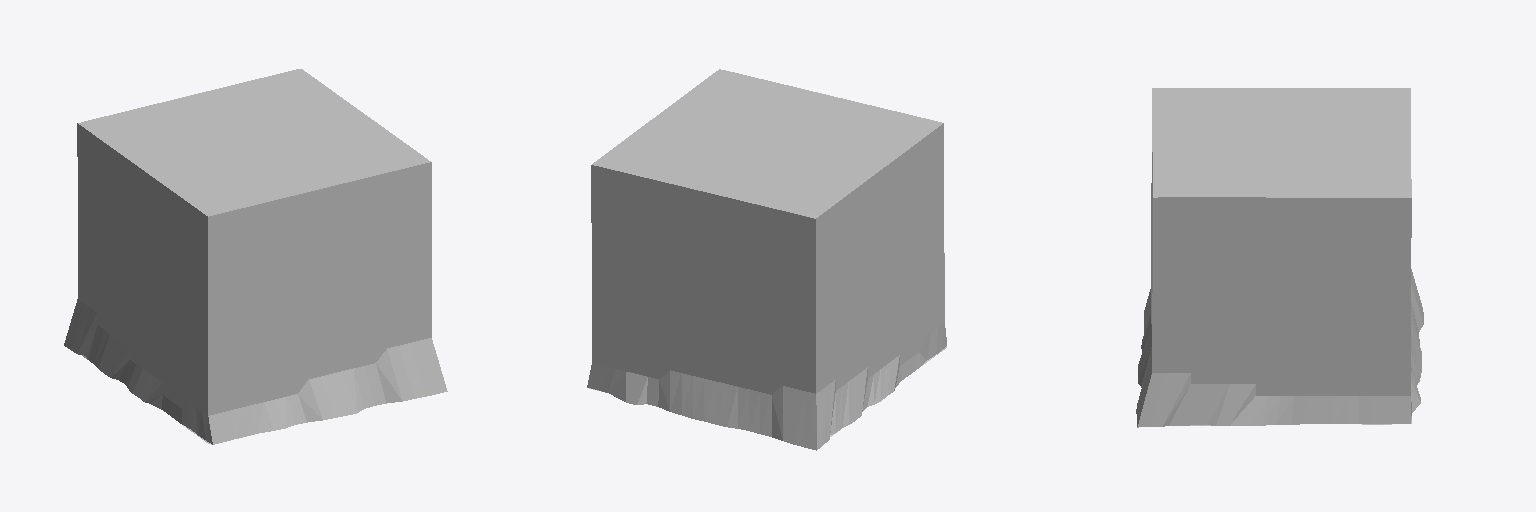
Rendered from mod0161.obj.
The picture shows the model from 3 angles: view 1: azimuth 30°, elevation 25°; view 2: azimuth 150°, elevation 25°; view 3: azimuth 270°, elevation 25°; orthographic projection.
Visible parts, largest first — view 1: Box001; view 2: Box001; view 3: Box001.
Part boxes in pixels (x1,y1,x2,y2): Box001: (64, 69, 447, 444); Box001: (587, 69, 946, 450); Box001: (1136, 88, 1423, 427).
Size of the model in its own units: 0.5799 by 0.5213 by 0.5979.